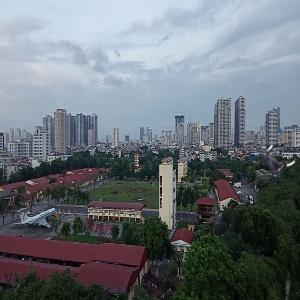drone: (256, 144, 295, 183)
